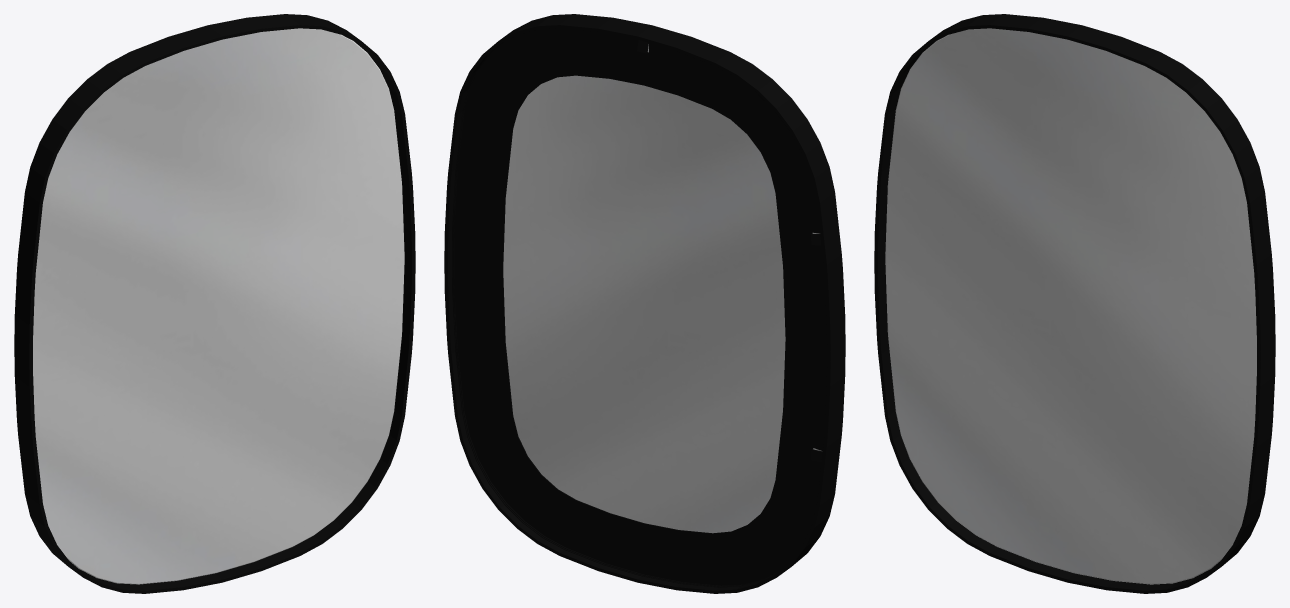
Rendered from york.obj.
3 views of the same model, side by side, from view 1: azimuth 30°, elevation 25°; view 2: azimuth 150°, elevation 25°; view 3: azimuth 330°, elevation 25° (orthographic).
Visible parts, largest first — view 1: sweethome3d_window_mirror, Solido2; view 2: sweethome3d_window_mirror, Solido2; view 3: sweethome3d_window_mirror, Solido2.
Part boxes in pixels (left/top/right/bottom): sweethome3d_window_mirror: left=33, top=28, right=404, bottom=584; Solido2: left=14, top=14, right=415, bottom=593; sweethome3d_window_mirror: left=503, top=44, right=821, bottom=533; Solido2: left=444, top=14, right=845, bottom=593; sweethome3d_window_mirror: left=885, top=28, right=1256, bottom=584; Solido2: left=874, top=14, right=1275, bottom=593.
Bounding box in the file's own units: 74.21 × 100 × 5.01.
Materials: 2 (1 with a texture image).
